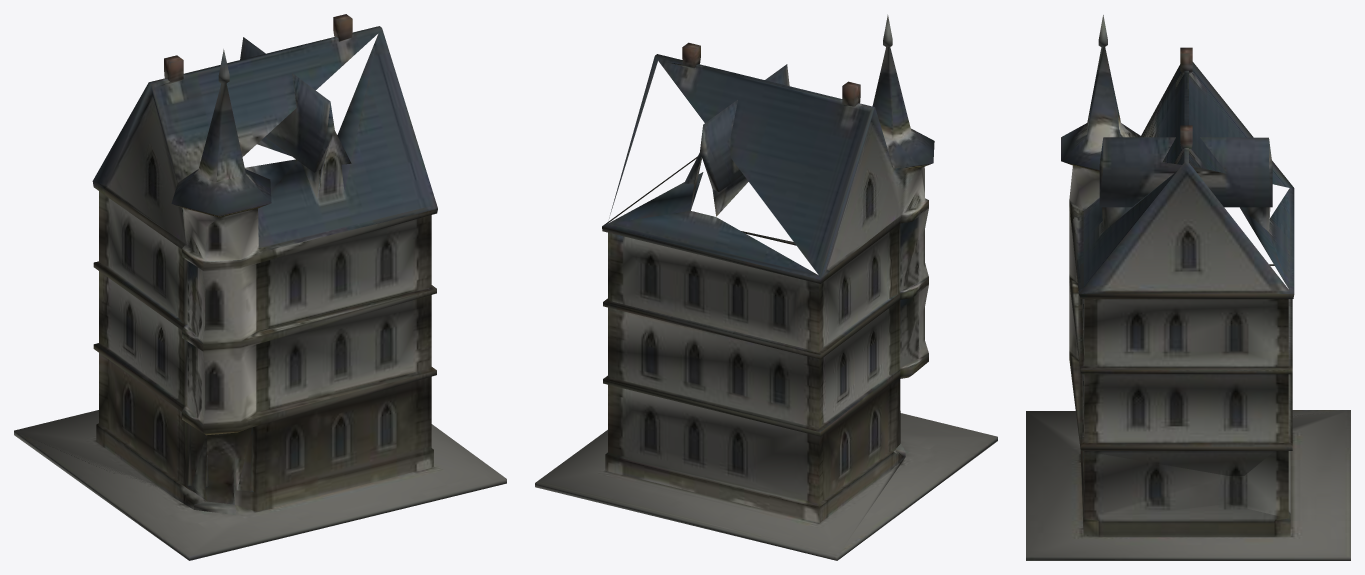
The model's file is house-4.glb.
3 renders of one model, left to right at view 1: azimuth 30°, elevation 25°; view 2: azimuth 150°, elevation 25°; view 3: azimuth 270°, elevation 25°, orthographic. The views are drawn at different scales.
Visible parts, largest first — view 1: tripo_node_5ff4d8f5-5481-4b48-b6da-db8c9; view 2: tripo_node_5ff4d8f5-5481-4b48-b6da-db8c9; view 3: tripo_node_5ff4d8f5-5481-4b48-b6da-db8c9.
Boxes of the visible parts, x1,y1,x2,y2 form: tripo_node_5ff4d8f5-5481-4b48-b6da-db8c9: (14, 14, 506, 560); tripo_node_5ff4d8f5-5481-4b48-b6da-db8c9: (535, 14, 997, 560); tripo_node_5ff4d8f5-5481-4b48-b6da-db8c9: (1026, 15, 1350, 560).
Bounding box in the file's own units: 18.77 × 26 × 17.55.
Materials: 1 (1 with a texture image).
